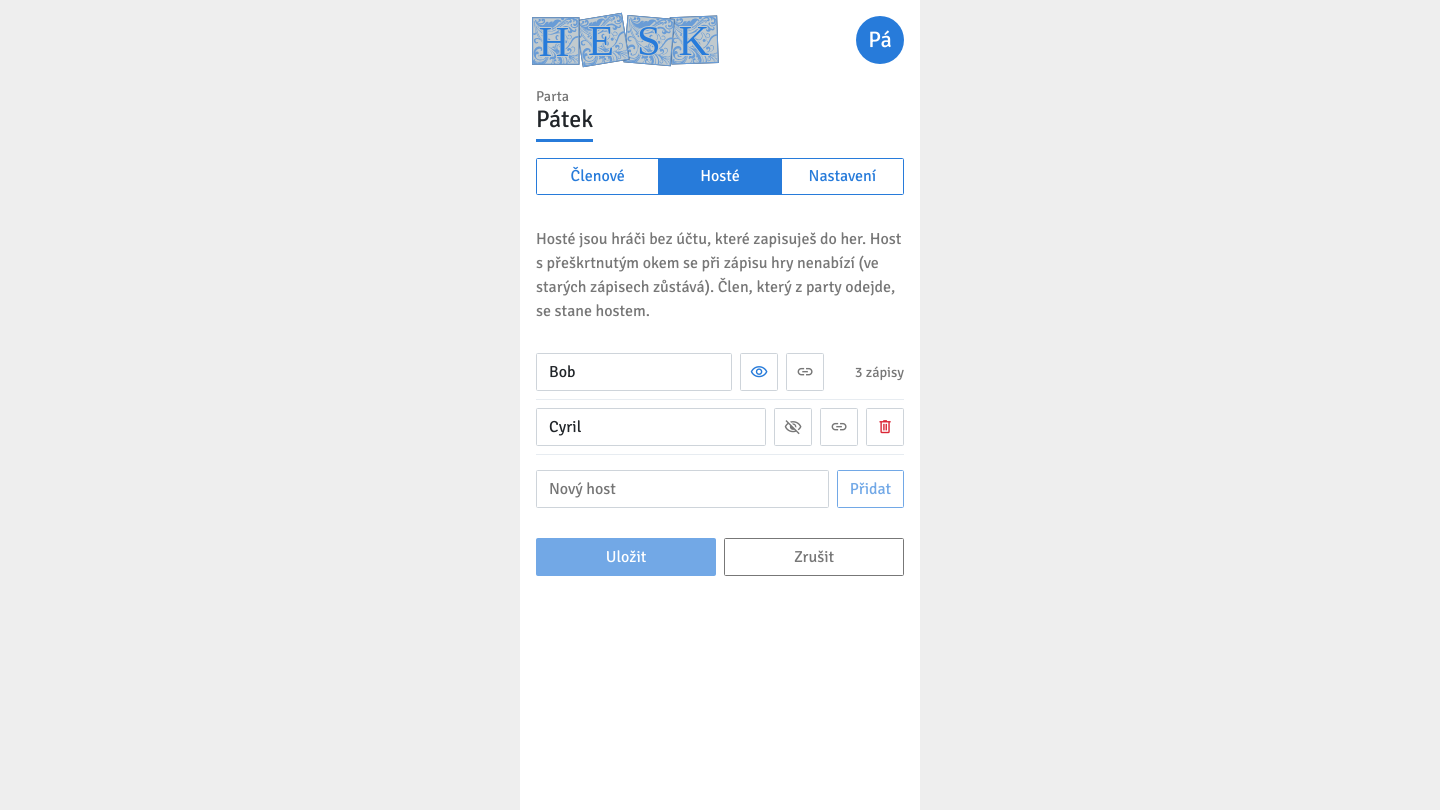
Test: party guests (/parties/:id/guests) › turning a guest into a member › links a guest with an existing member after confirming what happens
Click the button named "Propojit hosta Bob s členem" at (805, 372), box 786,354 -> 824,392
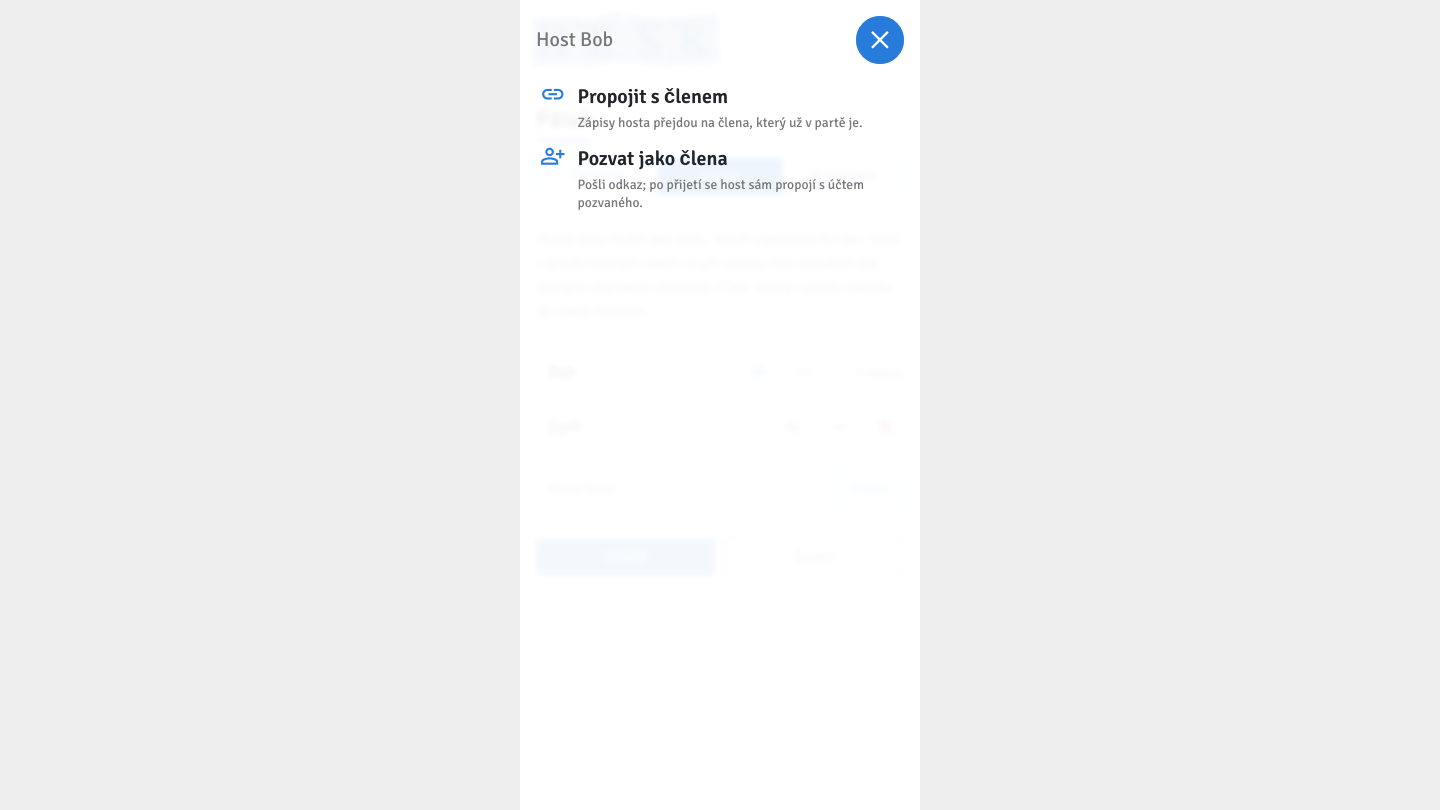
Click the button "Propojit s členem" at (720, 107), box 536,76 -> 904,138
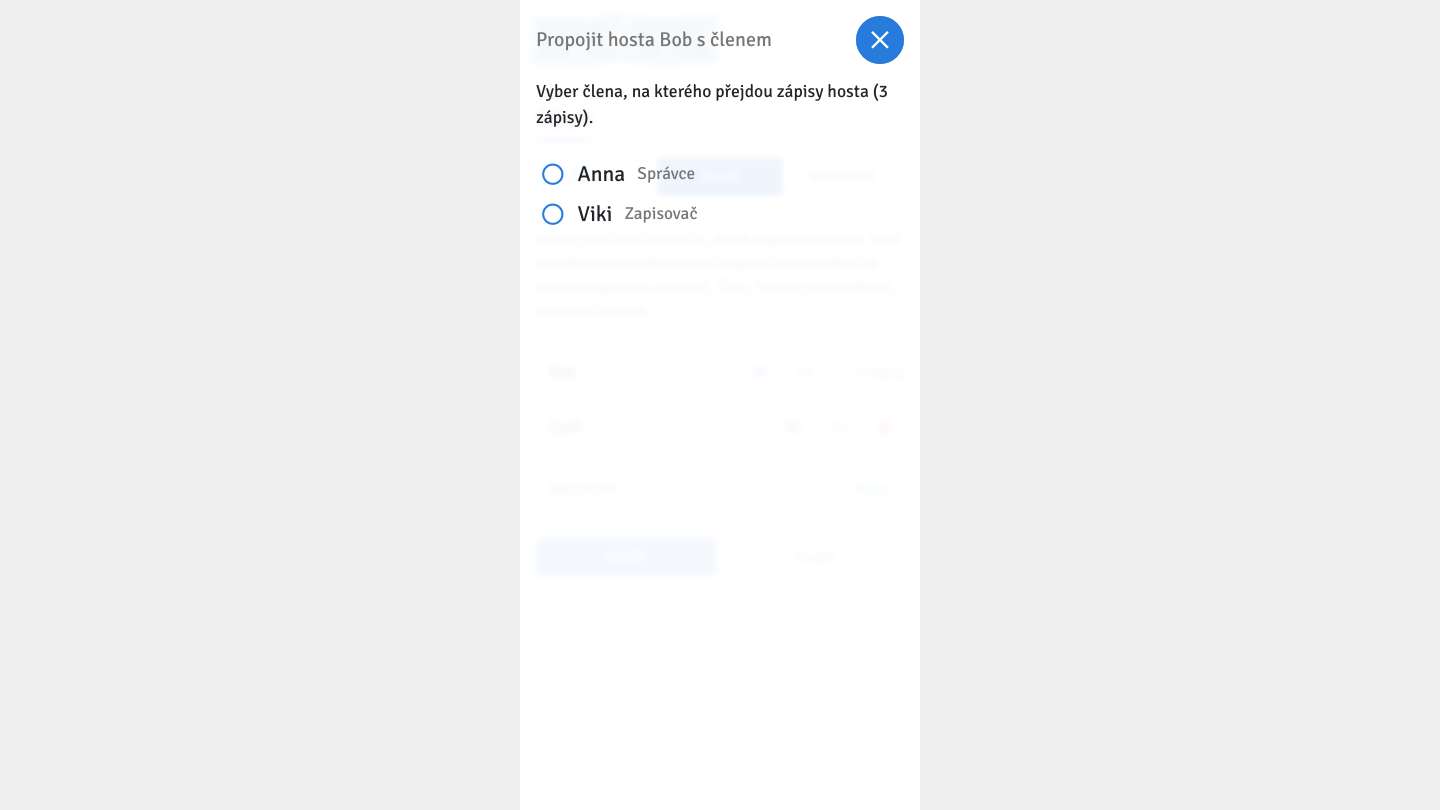
Click the option "Viki Zapisovač" at (595, 214), box 536,194 -> 904,234
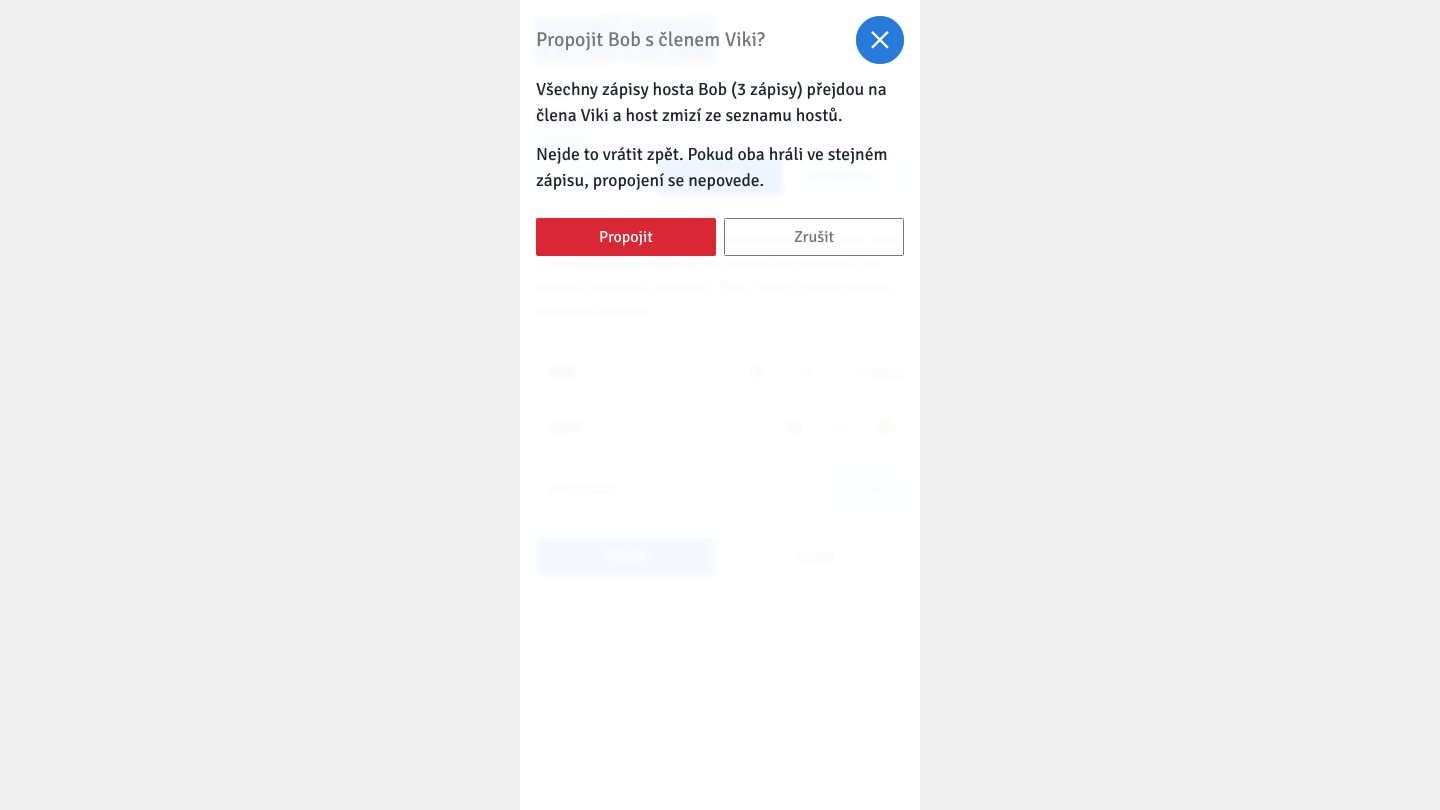
Expected: the dialog "Propojit Bob s členem Viki?" is shown, 520,0 -> 920,809
Expected: the text "Všechny zápisy hosta Bob (3 zápisy) přejdou na člena Viki" is shown, 536,76 -> 904,129
Click the button "Propojit" at (626, 237), box 536,218 -> 716,256
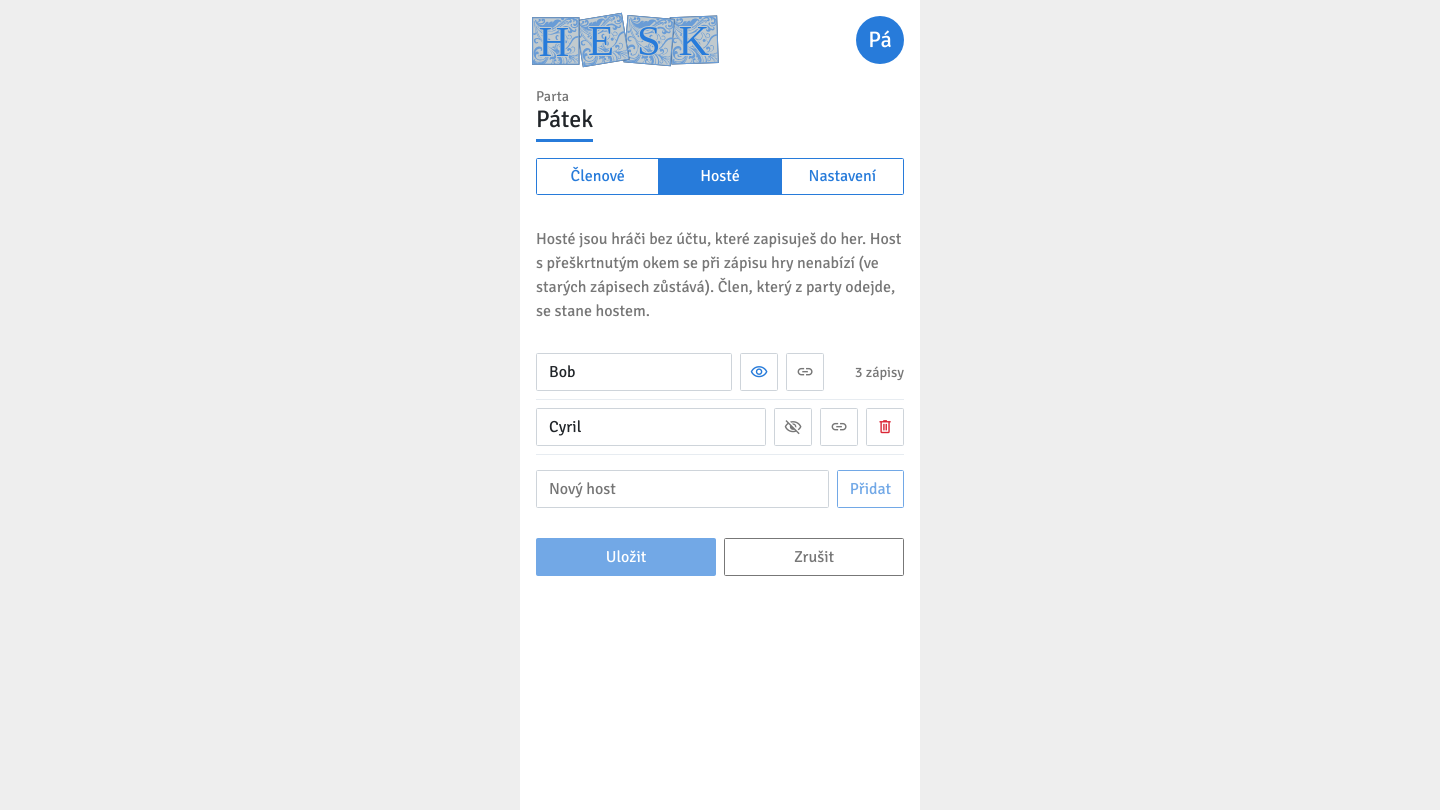
Expected: the dialog is gone
